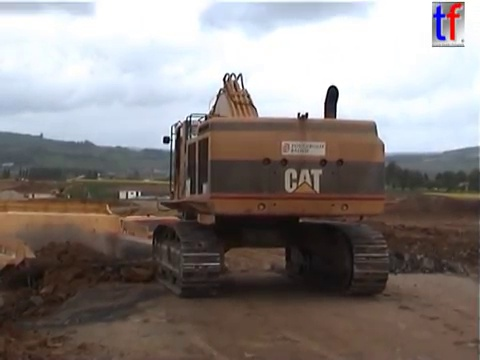excavator: (148, 69, 392, 299), (49, 178, 93, 202)
truck: (1, 199, 189, 320), (104, 212, 218, 279)
